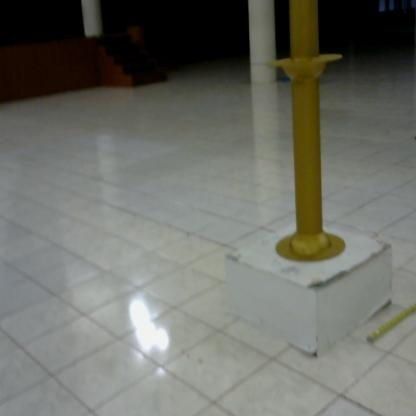pole: (257, 1, 356, 275)
